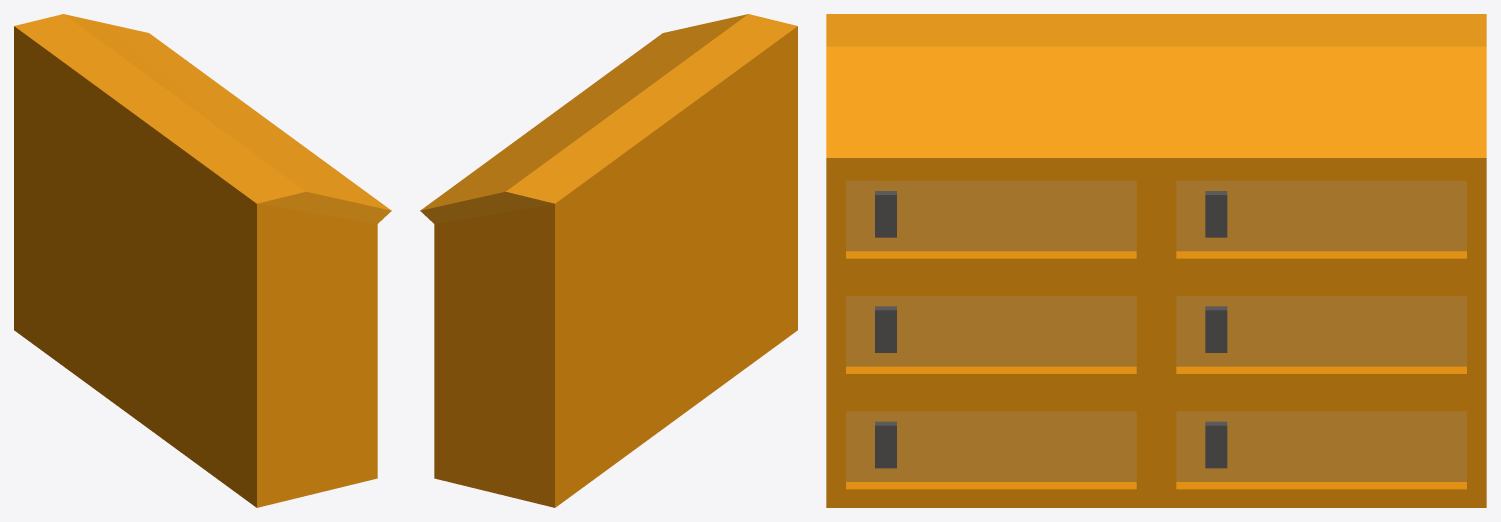
The model's file is PostBox_2_F.glb.
3 views of the same model, side by side, from view 1: azimuth 30°, elevation 25°; view 2: azimuth 150°, elevation 25°; view 3: azimuth 270°, elevation 25° (orthographic). The views are drawn at different scales.
Visible parts, largest first — view 1: PostBox_2_F; view 2: PostBox_2_F; view 3: PostBox_2_F.
Part boxes in pixels (x1,y1,x2,y2): PostBox_2_F: (14, 14, 391, 507); PostBox_2_F: (420, 14, 797, 507); PostBox_2_F: (826, 14, 1486, 507).
Size of the model in its own units: 0.1948 by 0.4193 by 0.6065.
1 material, 1 textured.
